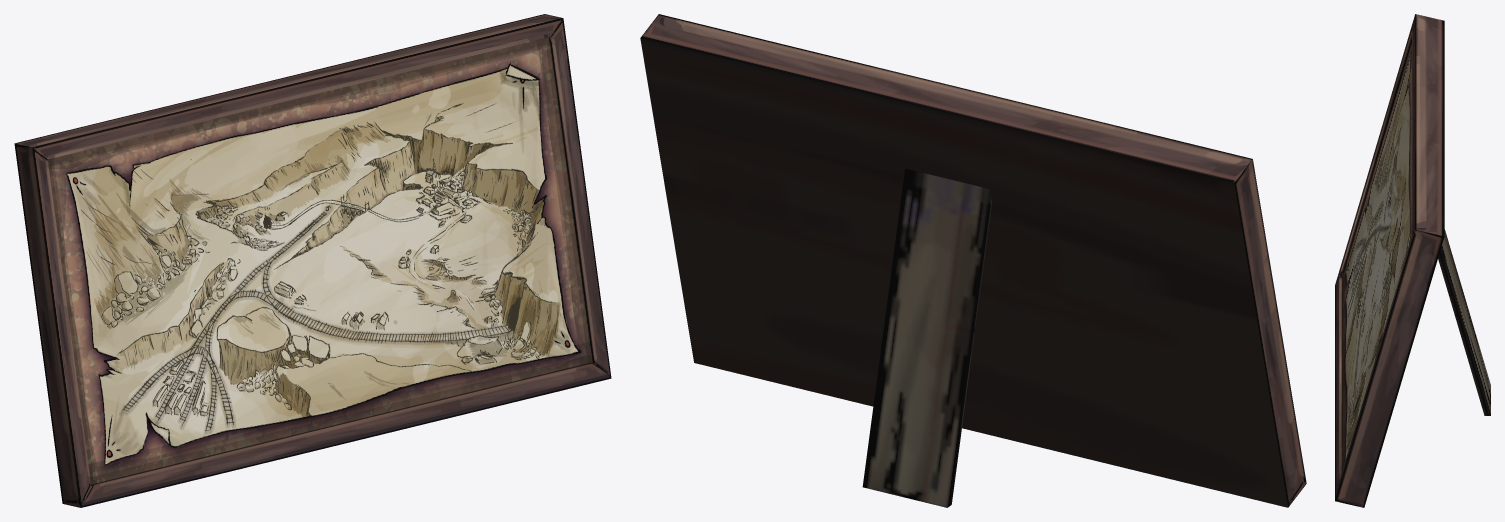
The model's file is map_board.fbx.
The picture shows the model from 3 angles, left to right: view 1: azimuth 30°, elevation 25°; view 2: azimuth 150°, elevation 25°; view 3: azimuth 270°, elevation 25°; orthographic projection. The views are drawn at different scales.
Visible parts, largest first — view 1: map_board; view 2: map_board; view 3: map_board.
Part boxes in pixels (x1,y1,x2,y2): map_board: [14, 14, 611, 507]; map_board: [640, 14, 1306, 507]; map_board: [1335, 14, 1490, 507].
Bounding box in the file's own units: 701 × 421 × 214.
